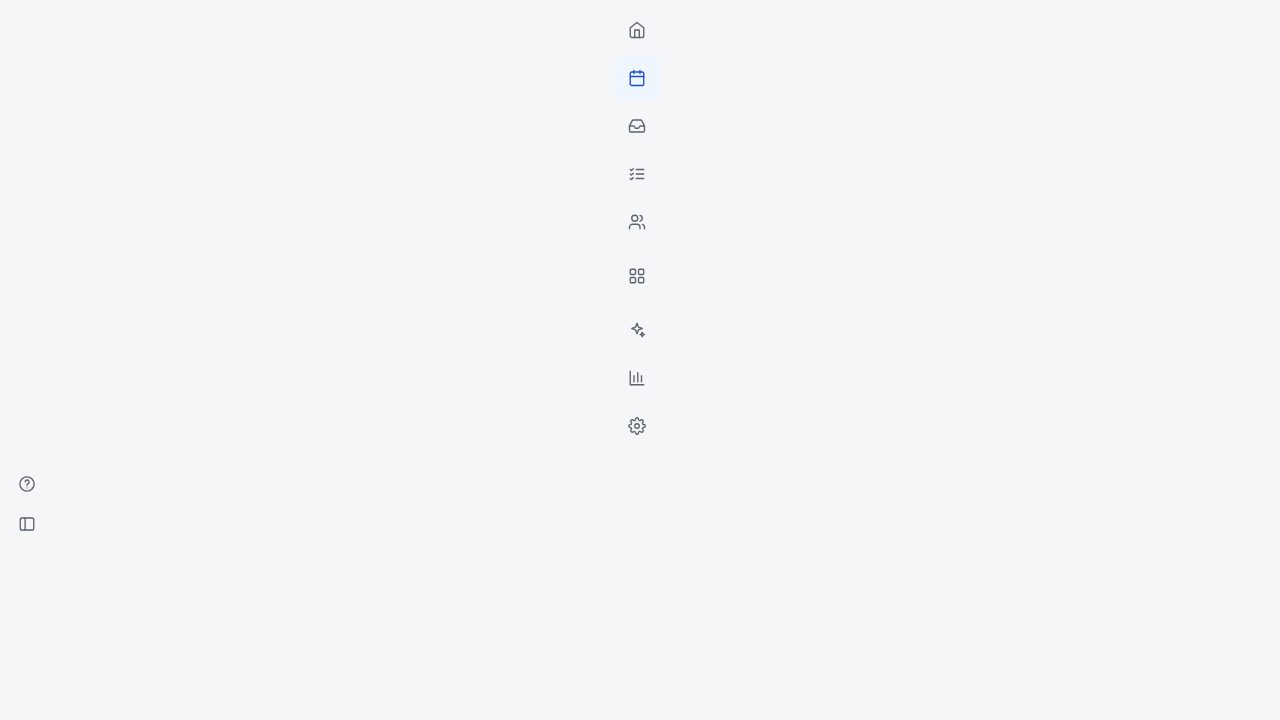
Test: Etapa A — sidebar por seções › P0 · rodada 2 — a navegação ABERTA desenha os filhos do grupo no fluxo (sem painel flutuante, sem seta)
Click the button named "Expandir navegação" at (27, 524), box [8,504,1272,544]
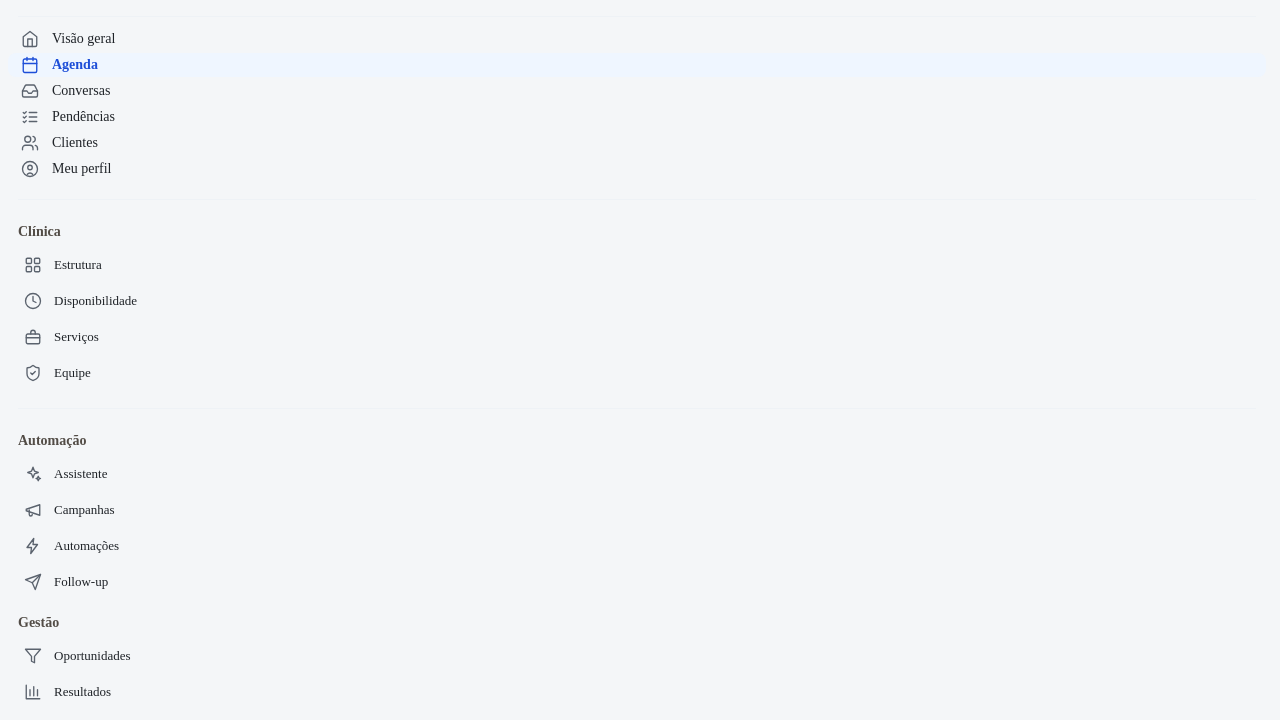
expect the text "Clínica" is shown: met, box [18,224,61,239]
expect the link with class "workspace-link--sub" showing "Estrutura" is shown: met, box [24,256,102,274]
